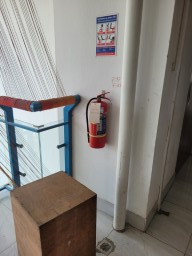fire_extinguisher: (69, 107, 112, 141)
